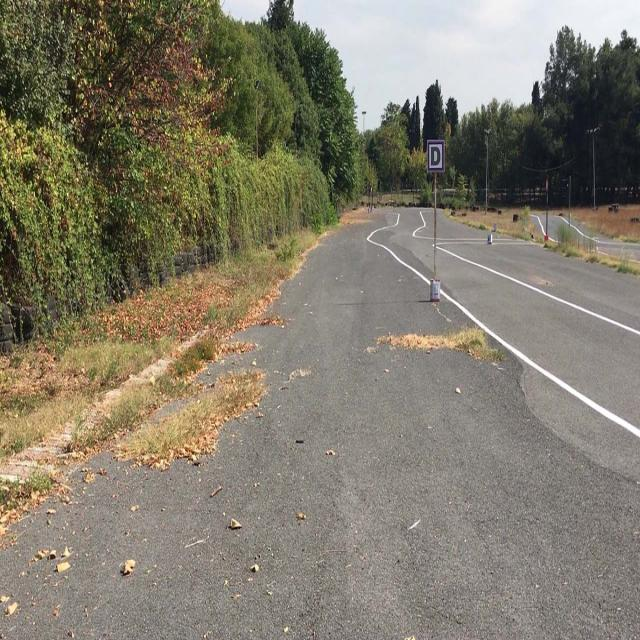durak: (427, 138, 445, 172)
